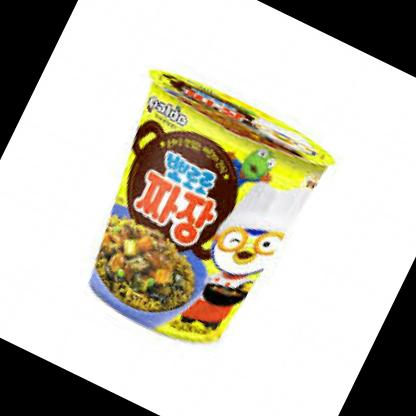Ramen: (48, 60, 344, 368)
